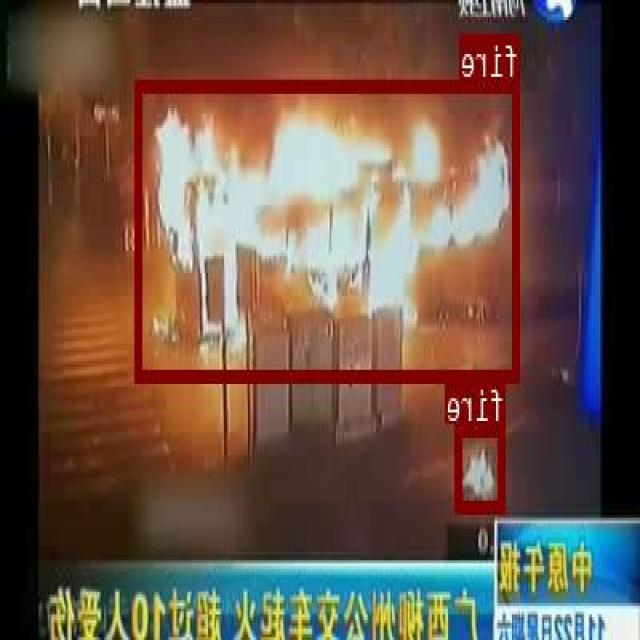fire: (137, 79, 520, 380), (457, 422, 506, 511)
